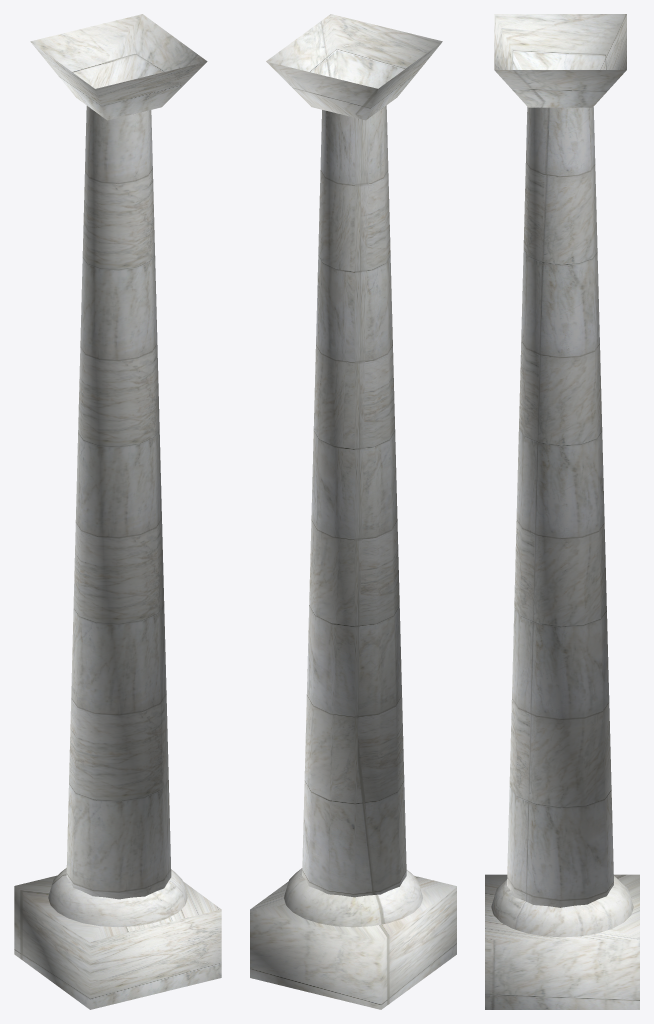
The model's file is Columns.fbx.
The picture shows the model from 3 angles, left to right: view 1: azimuth 30°, elevation 25°; view 2: azimuth 150°, elevation 25°; view 3: azimuth 270°, elevation 25°; orthographic projection. The views are drawn at different scales.
Parts seen in each view (by area): view 1: Columns; view 2: Columns; view 3: Columns.
Boxes of the visible parts, box(x1,y1,x2,y2) form: Columns: box(14, 14, 221, 1009); Columns: box(250, 14, 456, 1009); Columns: box(485, 14, 639, 1009).
Size of the model in its own units: 78.49 by 523 by 78.5.
